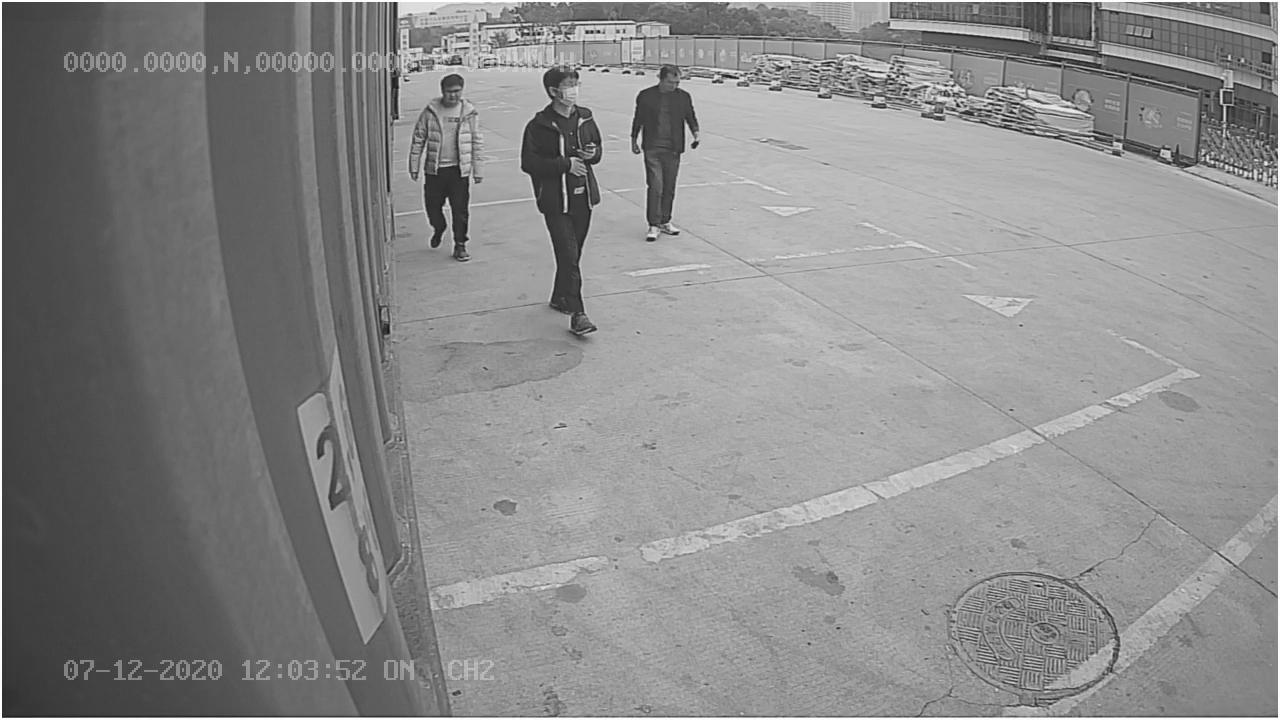person: (520, 62, 611, 340)
